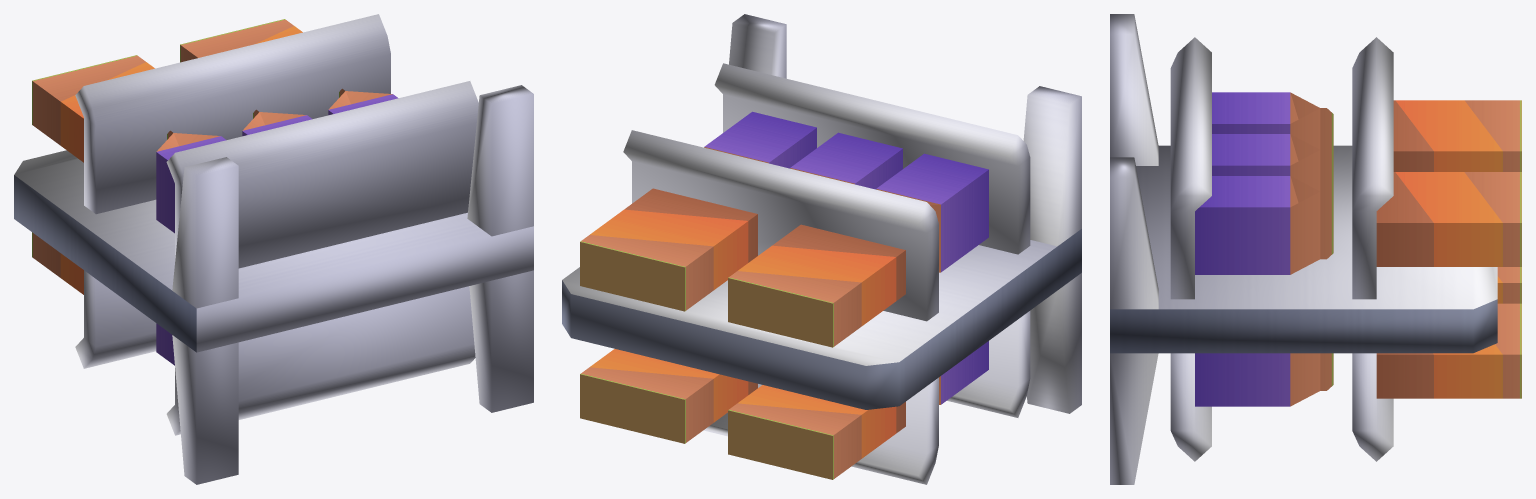
File: shelf-boxes.005.obj
3 renders of one model, left to right at view 1: azimuth 30°, elevation 25°; view 2: azimuth 150°, elevation 25°; view 3: azimuth 270°, elevation 25°, orthographic.
Parts seen in each view (by area): view 1: shelf-boxes.004; view 2: shelf-boxes.004; view 3: shelf-boxes.004.
Boxes of the visible parts, bbox=[...] form: shelf-boxes.004: bbox=[14, 14, 533, 484]; shelf-boxes.004: bbox=[562, 14, 1081, 484]; shelf-boxes.004: bbox=[1110, 14, 1521, 484].
Size of the model in its own units: 0.8 by 0.7 by 0.85.
